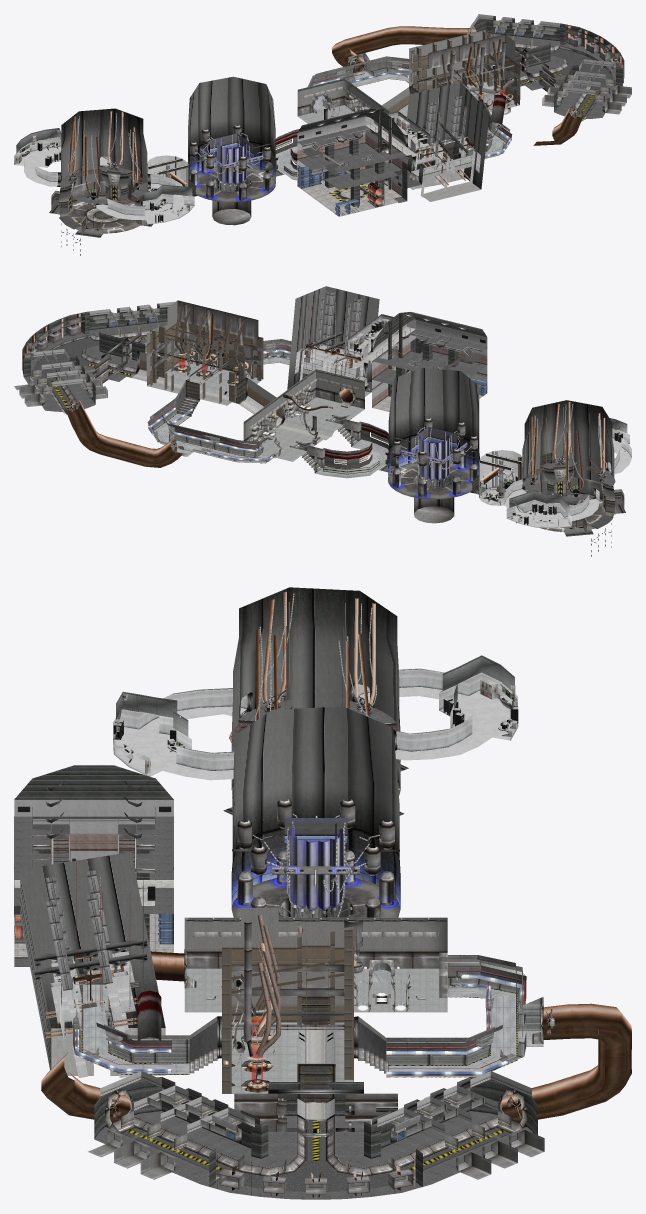
File: zone4.glb
3 renders of one model, top to bottom at view 1: azimuth 30°, elevation 25°; view 2: azimuth 150°, elevation 25°; view 3: azimuth 270°, elevation 25°, orthographic. The views are drawn at different scales.
Parts seen in each view (by area): view 1: mesh; view 2: mesh; view 3: mesh.
Part boxes in pixels (left/top/right/bottom): mesh: left=14, top=14, right=631, bottom=255; mesh: left=14, top=286, right=631, bottom=556; mesh: left=14, top=587, right=631, bottom=1199.
Size of what is drawn, in the model's own units: 103 by 22.5 by 51.81.
Materials: 15 (15 with a texture image).
